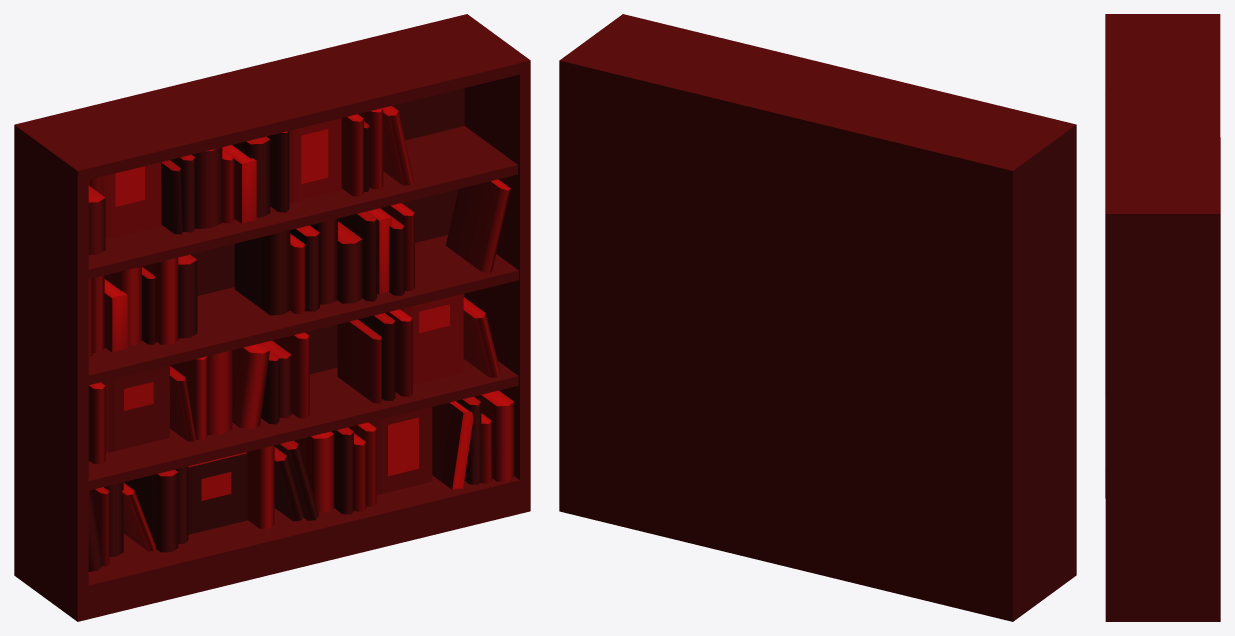
The model's file is BookShelf002.glb.
The picture shows the model from 3 angles, left to right: view 1: azimuth 30°, elevation 25°; view 2: azimuth 150°, elevation 25°; view 3: azimuth 270°, elevation 25°; orthographic projection. The views are drawn at different scales.
Visible parts, largest first — view 1: BookShelf002; view 2: BookShelf002; view 3: BookShelf002.
Boxes of the visible parts, x1=… form: BookShelf002: x1=14, y1=14, x2=530, y2=621; BookShelf002: x1=559, y1=14, x2=1076, y2=621; BookShelf002: x1=1105, y1=14, x2=1220, y2=621.
Size of the model in its own units: 8.91 by 8.47 by 2.17.
